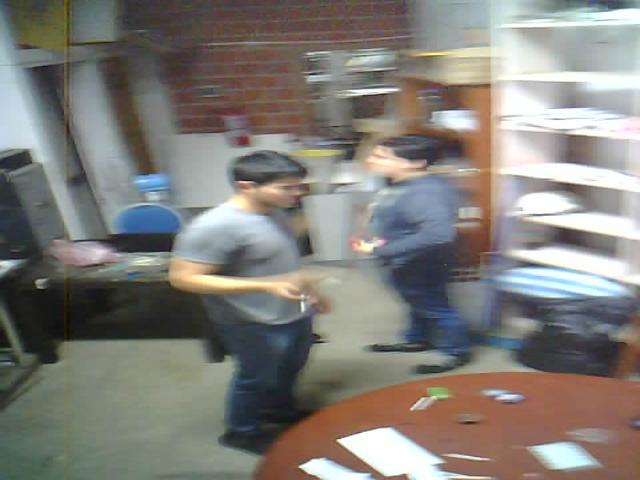person: (140, 124, 339, 464), (352, 100, 496, 380)
